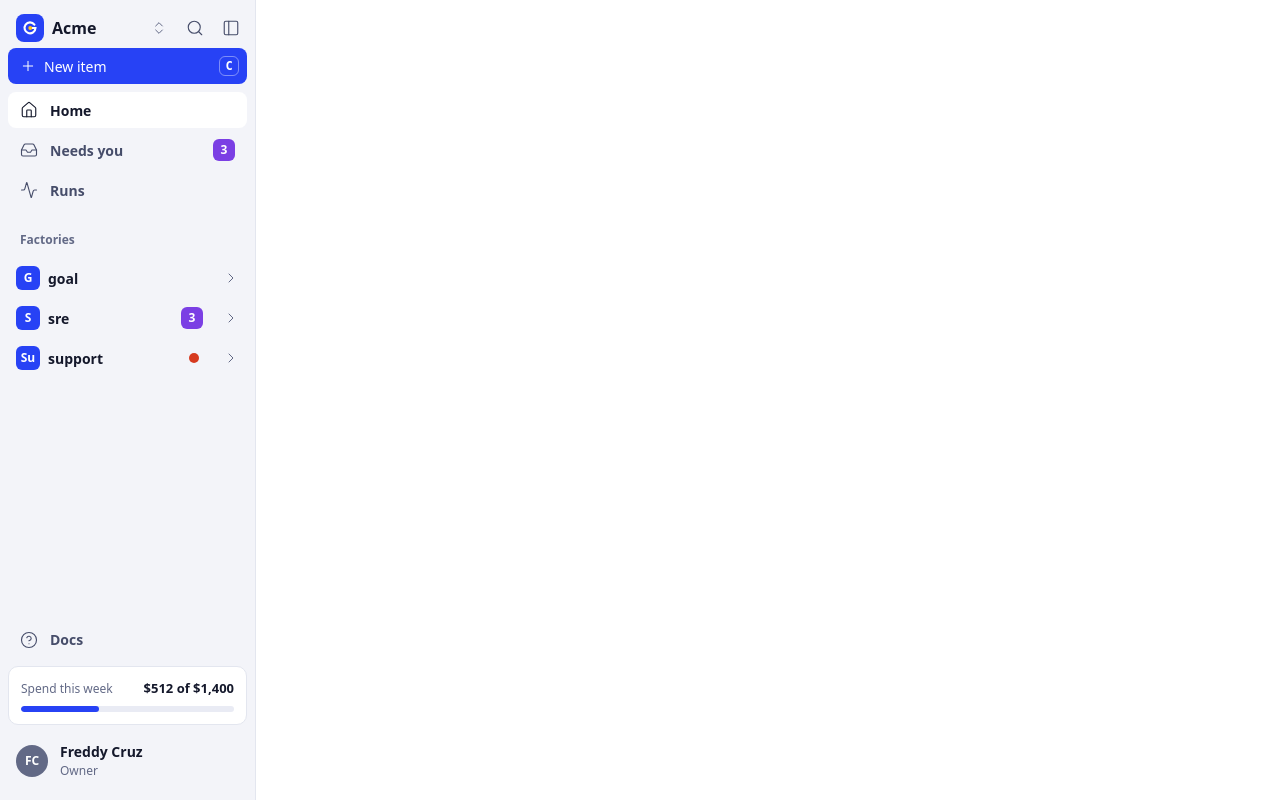
Scenario: the sidebar › New item and its shortcut C › enables New item with C as its shortcut, and opens the composer with the factory picker
Click the button "New item C": (128, 66) [8,48,247,84]
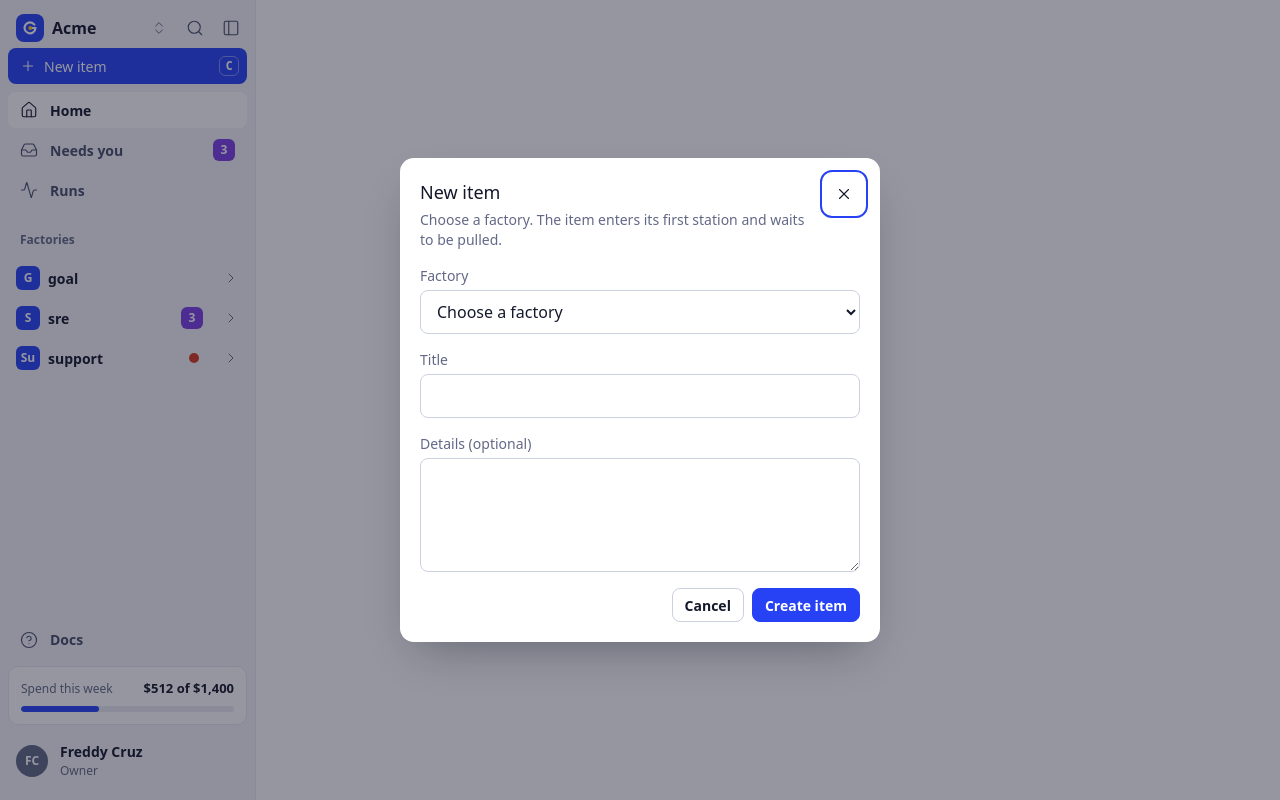
Now the dialog "New item" is shown, box [400,158,880,642]
Now the dropdown labelled "Factory" is shown, box [420,290,860,334]
